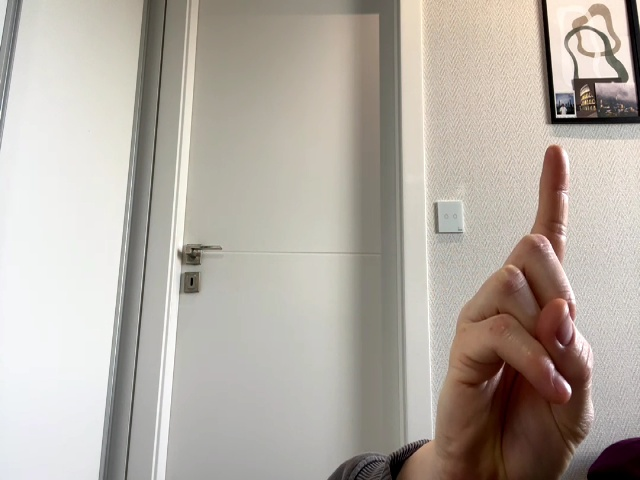Z: (435, 145, 595, 480)
